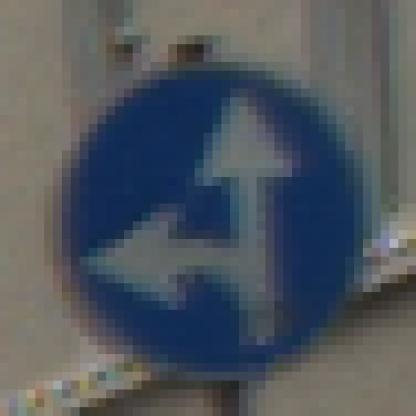Straight or Left: (54, 54, 364, 373)
